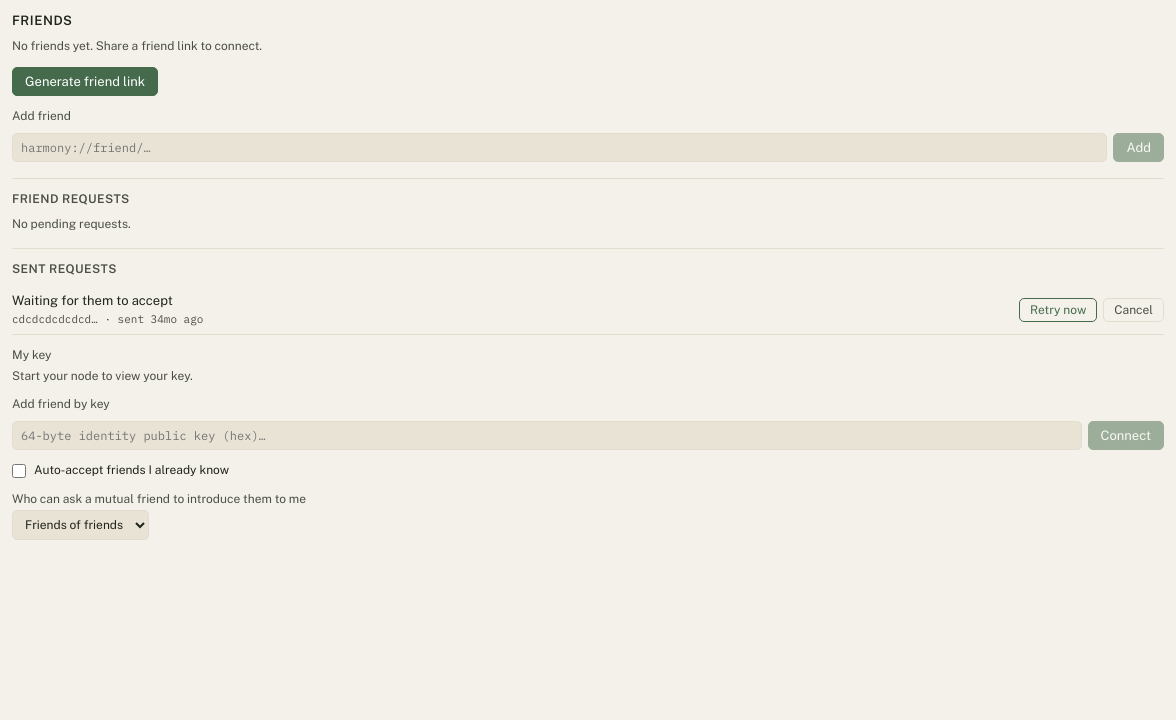
it: FriendsPanel — outbound requests (ZEB-784 / ZEB-783) › Cancel stops the retry and drops the row
This screenshot has width=1176, height=720.
Expected: the element with test id "outbound-requests-section" is shown, [12,248,1164,335]
Click the button "Cancel": (1134, 310) [1103,298,1164,322]
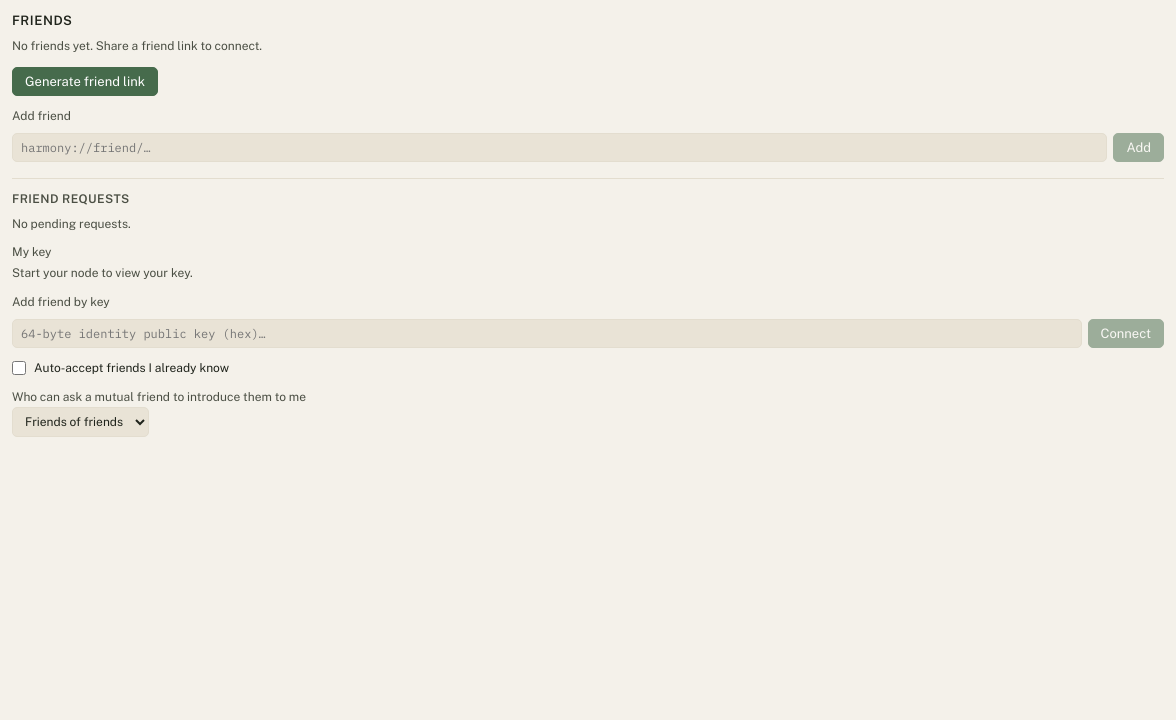
Expected: the element with test id "outbound-requests-section" is gone
